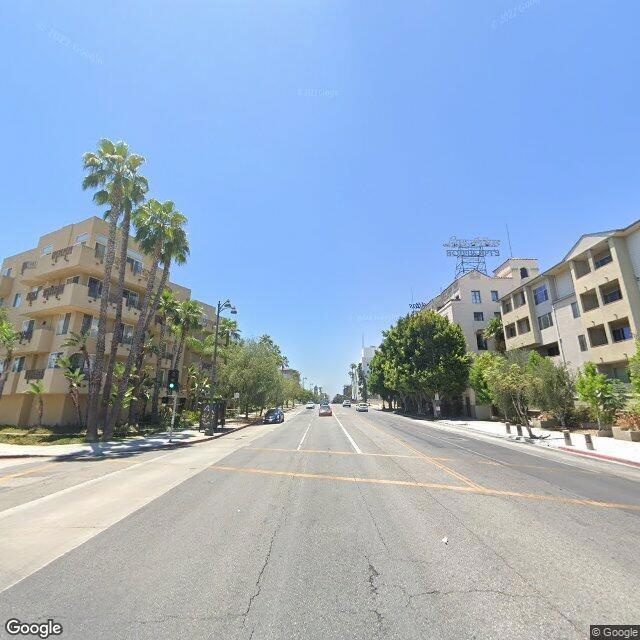crack: (235, 521, 278, 637), (351, 475, 390, 551), (404, 582, 538, 604), (125, 607, 235, 627), (360, 553, 385, 639)
